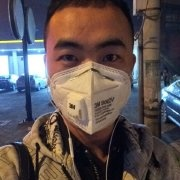Mask: (42, 35, 135, 128)
